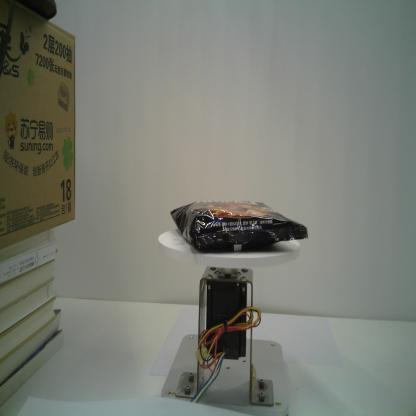Instant Noodles: (170, 199, 308, 252)
